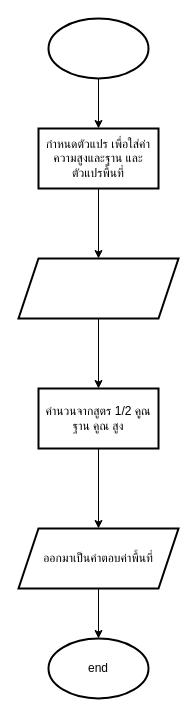
This 196x716 diagram has some shape labels left out. The centre of each missing label's shape, as x and y in pixels:
start: the point at 98,48
กรอกค่าความสูงแล้วฐาน: the point at 98,288
